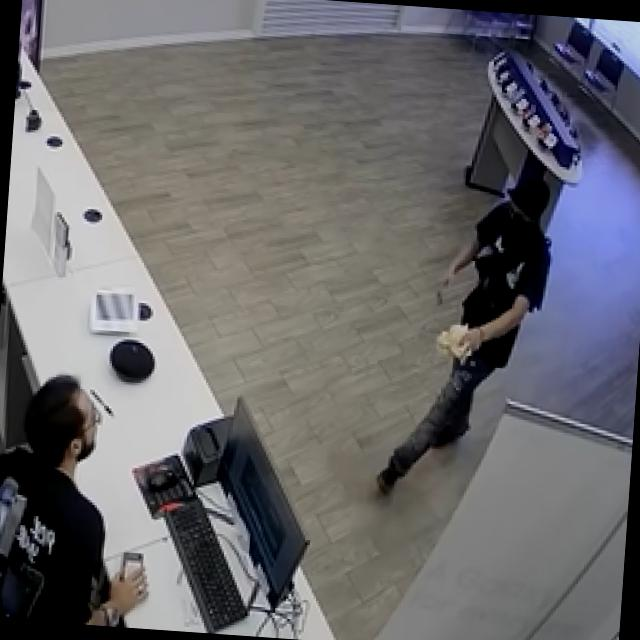person: (378, 166, 558, 504), (0, 369, 165, 628)
